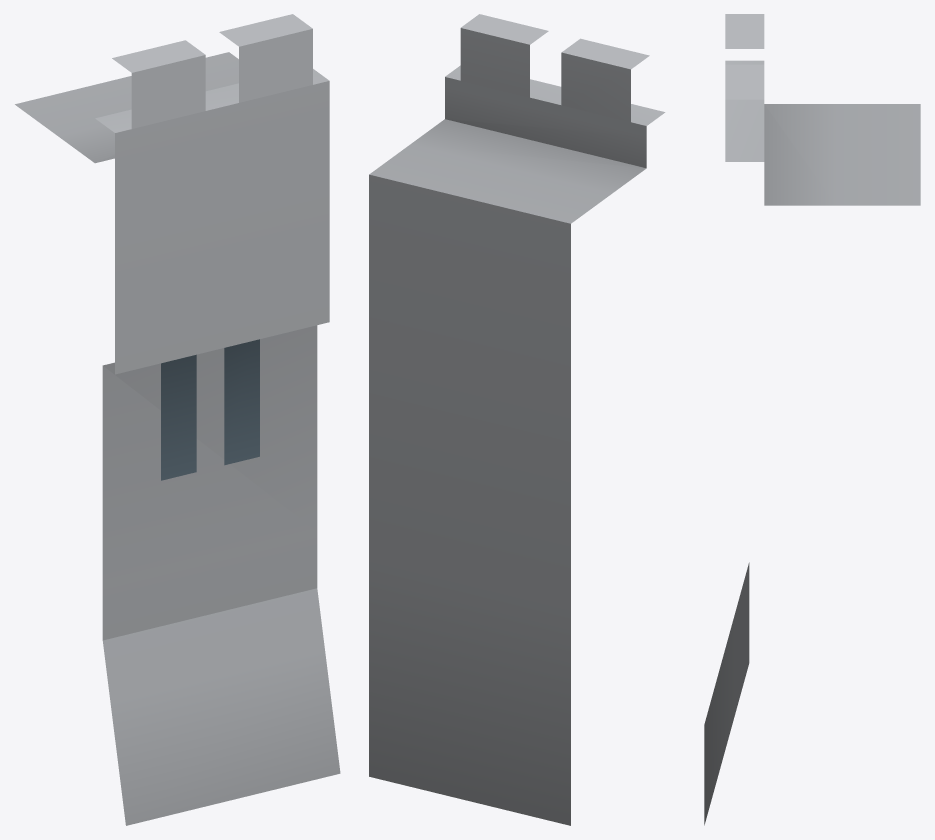
File: sg_seawall_window_l1.glb
The picture shows the model from 3 angles, left to right: view 1: azimuth 30°, elevation 25°; view 2: azimuth 150°, elevation 25°; view 3: azimuth 270°, elevation 25°; orthographic projection. The views are drawn at different scales.
Visible parts, largest first — view 1: sg_seawall_window_l1_SG_Stone, sg_seawall_window_l1_SG_Glass; view 2: sg_seawall_window_l1_SG_Stone; view 3: sg_seawall_window_l1_SG_Stone.
Boxes of the visible parts, box(x1,y1,x2,y2) form: sg_seawall_window_l1_SG_Stone: box(15, 14, 340, 825); sg_seawall_window_l1_SG_Glass: box(161, 339, 259, 480); sg_seawall_window_l1_SG_Stone: box(369, 14, 665, 825); sg_seawall_window_l1_SG_Stone: box(704, 14, 920, 825).
Bounding box in the file's own units: 4 × 13.2 × 3.6.
